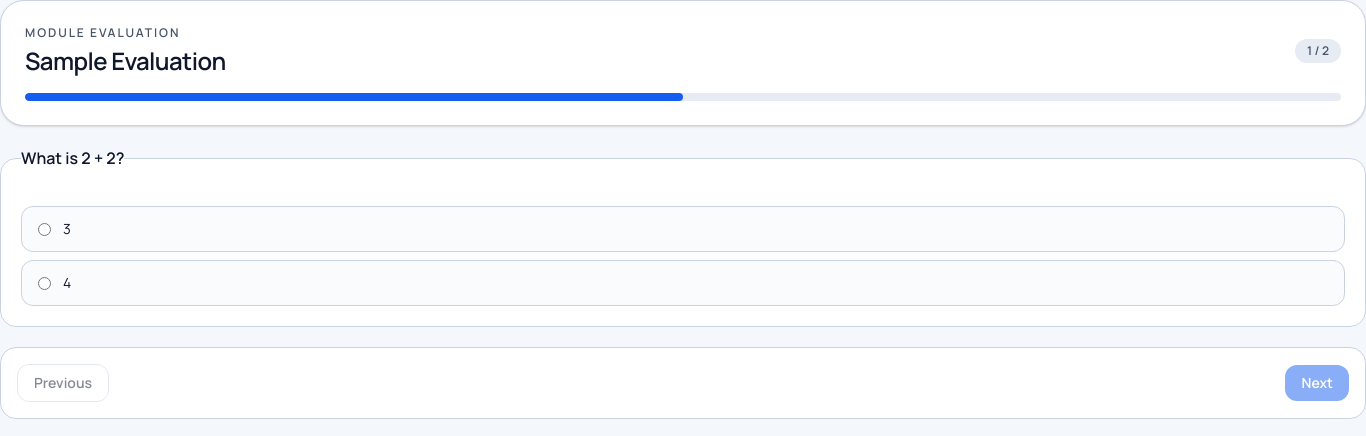
EvaluationRunner › allows moving to the next question after selecting an answer
Click the radio button labelled "4" at (44, 283), box [38, 276, 51, 290]
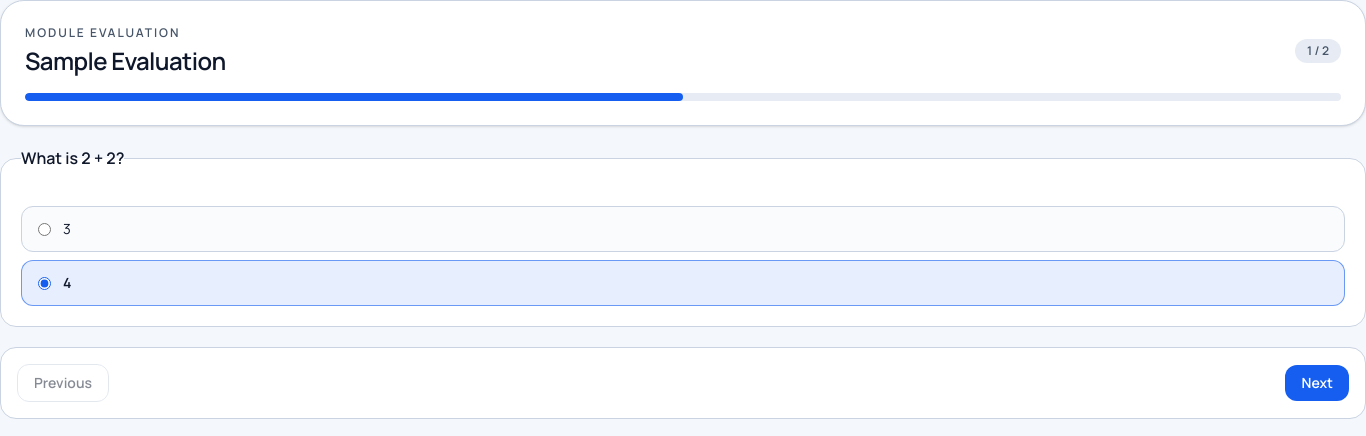
Expected: the button with test id "next-button" is enabled
Click the button with test id "next-button" at (1317, 383), box [1286, 365, 1349, 401]
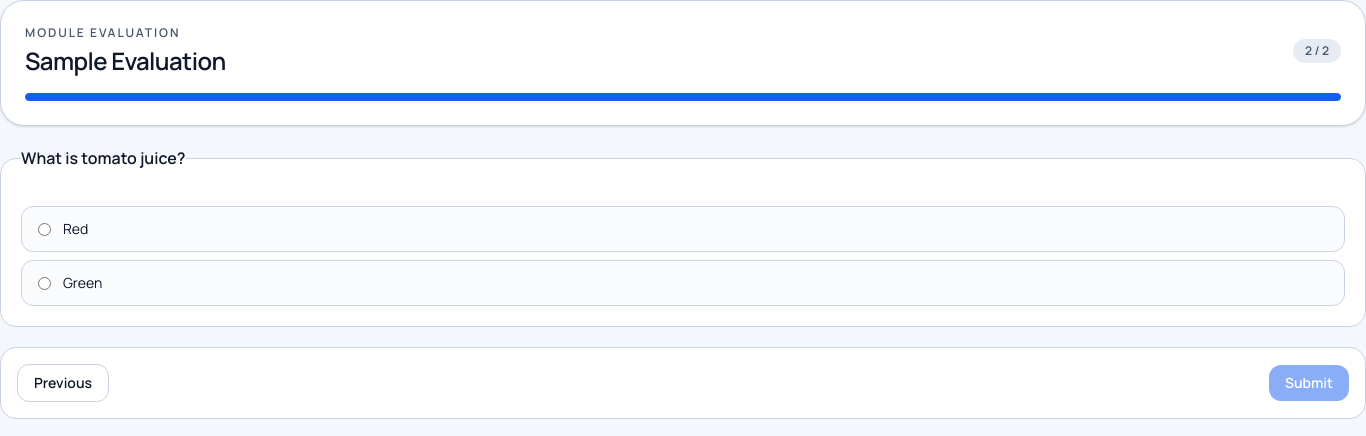
Expected: the button "Previous" is shown, [17, 364, 109, 402]
Expected: the text "What is tomato juice?" is shown, [21, 146, 186, 170]
